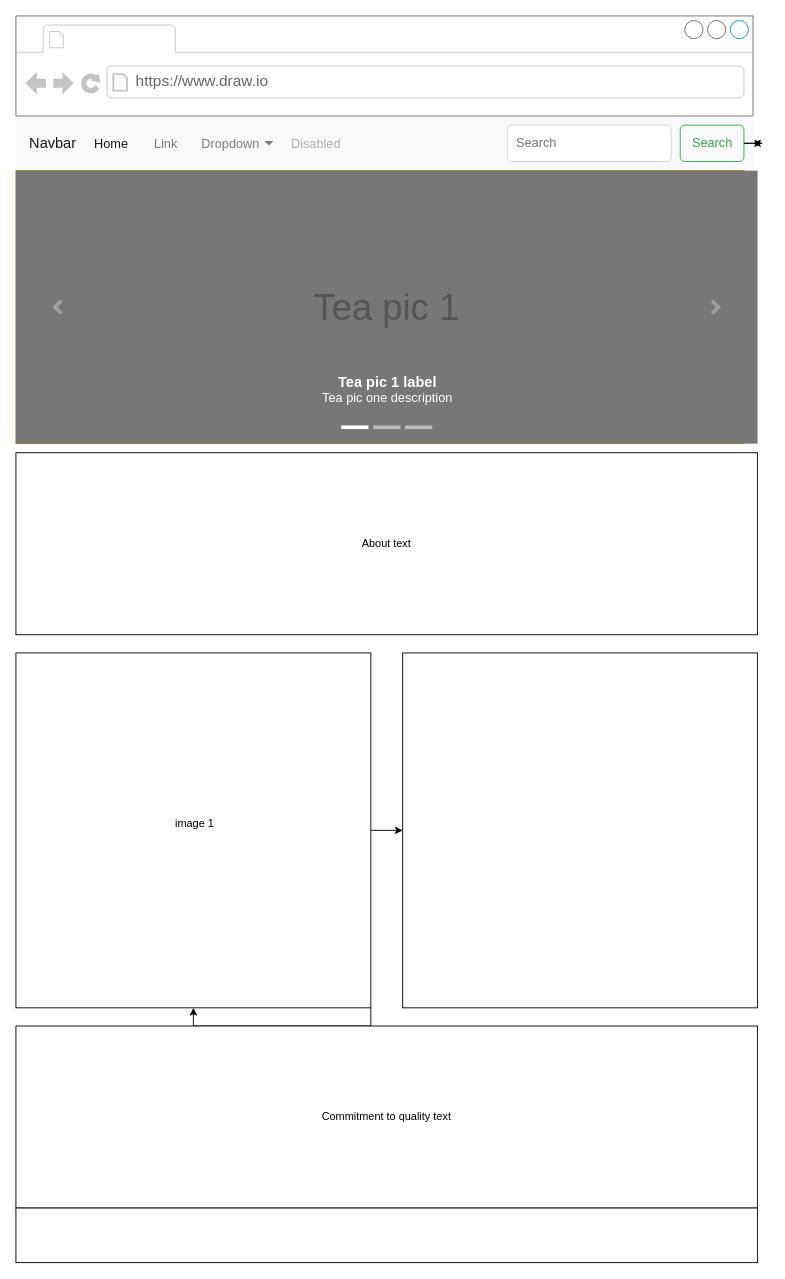
Some shapes in this 785 by 1279 pixel diagram are drawn without their labels. The box of each missing label's shape, as (x1, y1, x2, y2) in pixels:
Footer: (15, 1207, 758, 1263)
image 2: (402, 652, 758, 1008)
Page 1: (70, 26, 171, 51)
